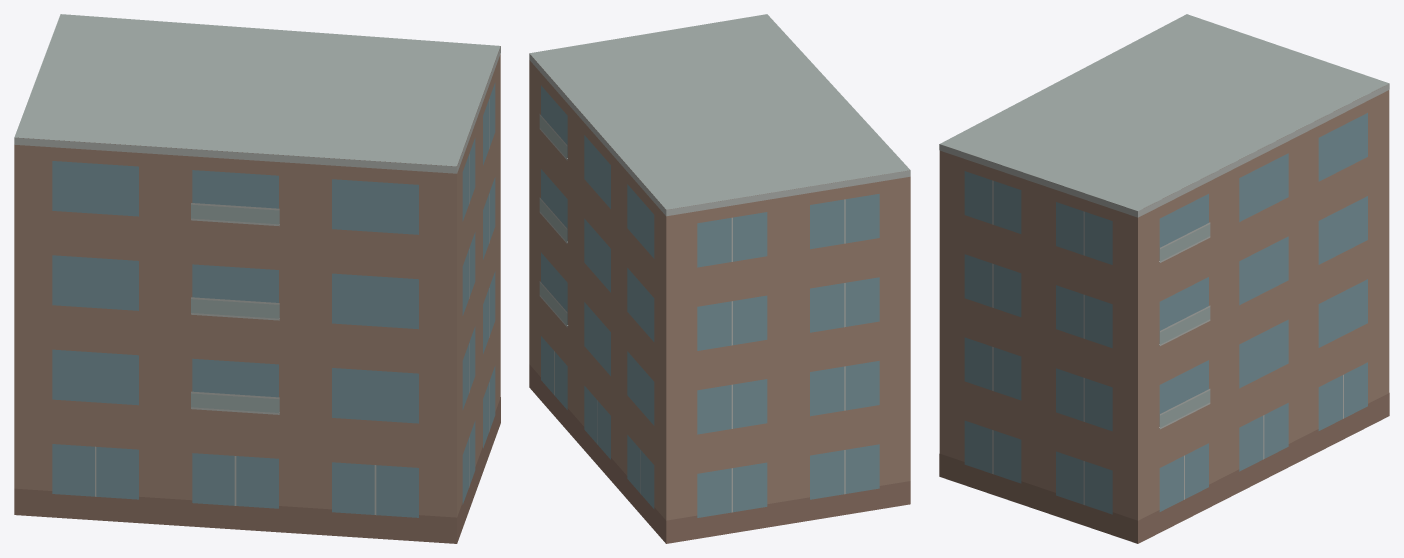
Rendered from survey-upis-32799613.glb.
3 renders of one model, left to right at view 1: azimuth 30°, elevation 25°; view 2: azimuth 150°, elevation 25°; view 3: azimuth 270°, elevation 25°, orthographic. The views are drawn at different scales.
Parts seen in each view (by area): view 1: survey-upis-32799613.tmp; view 2: survey-upis-32799613.tmp; view 3: survey-upis-32799613.tmp.
Part boxes in pixels (x1,y1,x2,y2): survey-upis-32799613.tmp: (14, 14, 500, 543); survey-upis-32799613.tmp: (529, 14, 910, 543); survey-upis-32799613.tmp: (939, 14, 1389, 543).
Bounding box in the file's own units: 16.03 × 12.6 × 15.45.
